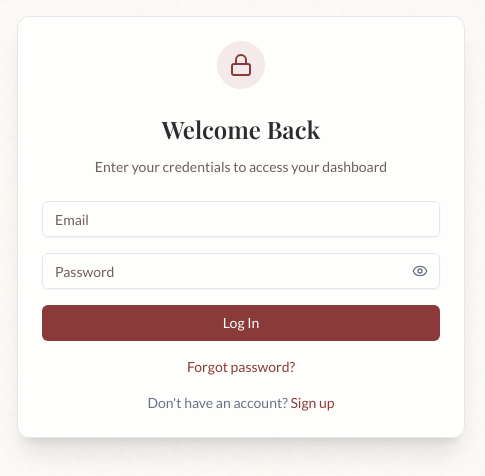
LoginPage › Loading State › should show loading state during login
The width and height of the screenshot is (485, 476).
Step 1. Type "test@example.com" into the field with placeholder "Email" → (241, 219), box [42, 201, 440, 237]
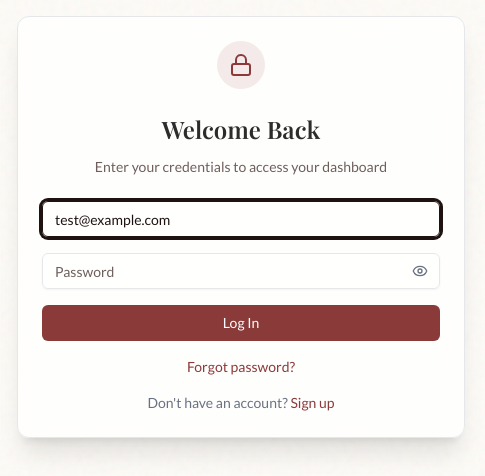
Step 2. Type "password123" into the password field with placeholder "Password" → (241, 271), box [42, 253, 440, 289]
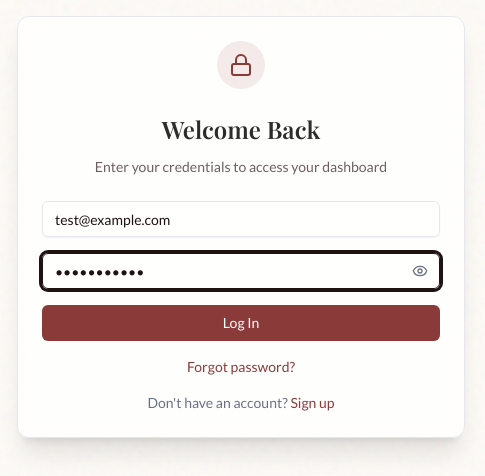
Step 3. Click the button "Log In" → (241, 323), box [42, 305, 440, 341]
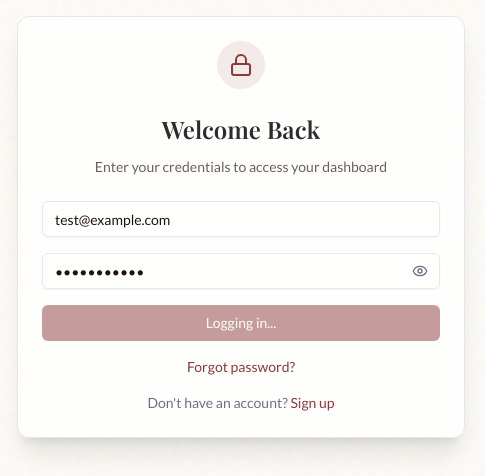
Check: the button "Logging in..." is disabled, box [42, 305, 440, 341]
